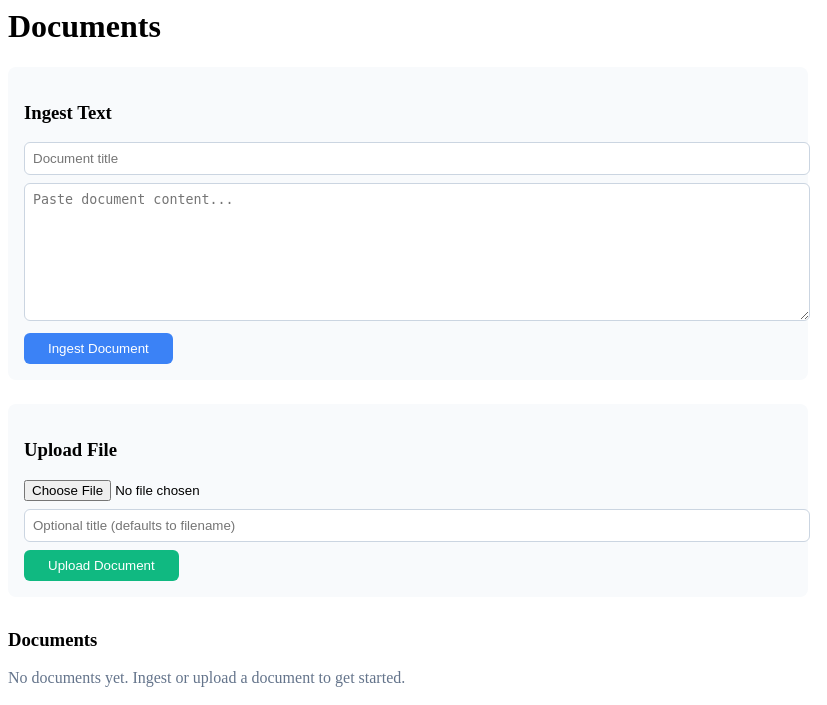
Test: Documents › handles ingestion error
The image size is (827, 705).
Type "Test" into the field with placeholder "Document title". click: (417, 159)
box: [24,142,810,175]
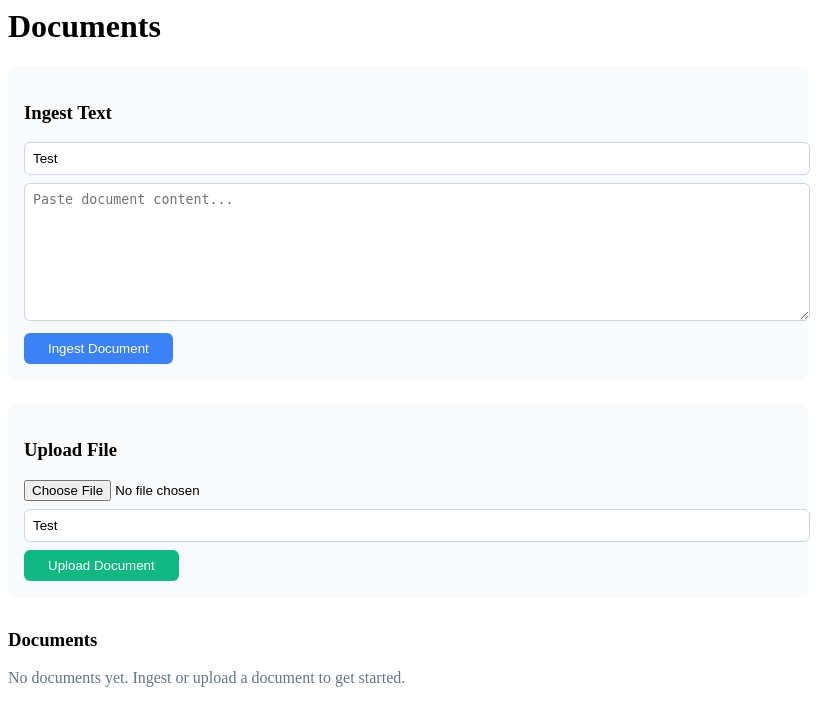
Type "Content" into the text box with placeholder "Paste document content...". click: (417, 252)
box: [24,183,810,321]
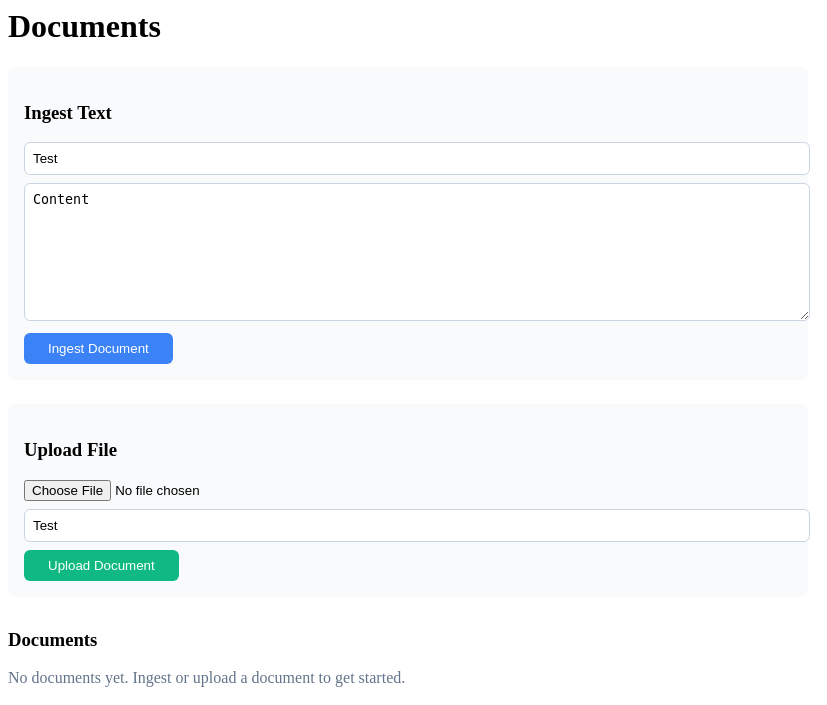
Click the button "Ingest Document". click: (98, 349)
box: [24,333,173,364]
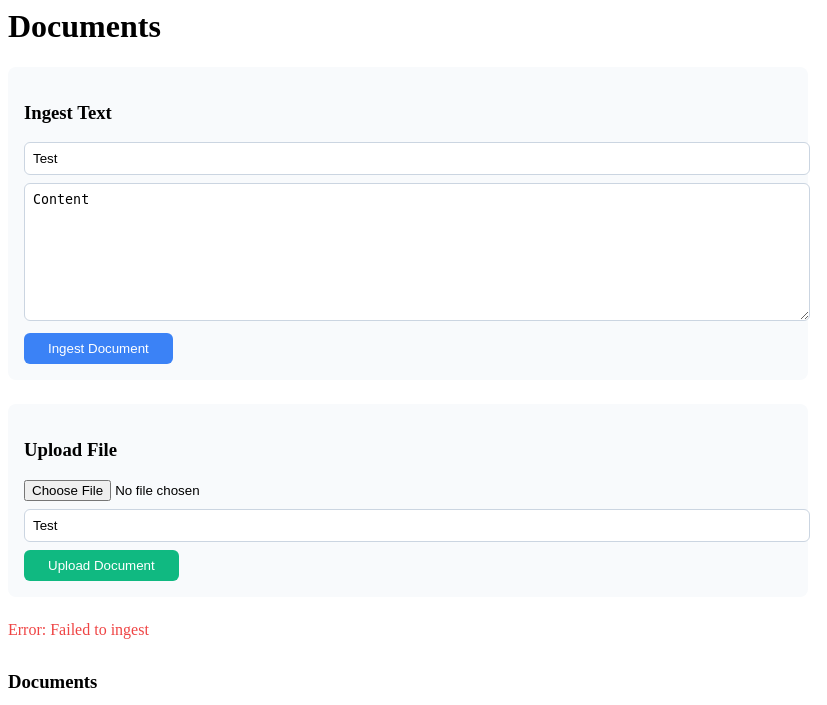
Check: the text "Error: Failed to ingest" is shown, box [8,621,149,638]
